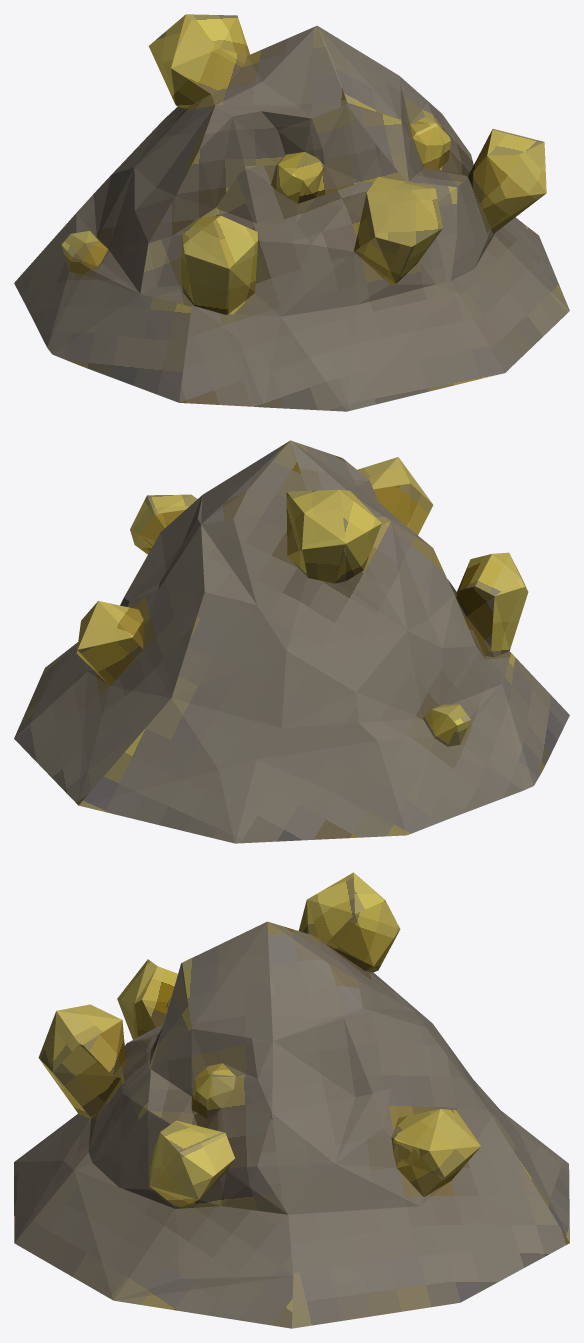
Rendered from gold.glb.
3 views of the same model, one above another, from view 1: azimuth 30°, elevation 25°; view 2: azimuth 150°, elevation 25°; view 3: azimuth 270°, elevation 25° (orthographic). The views are drawn at different scales.
Parts seen in each view (by area): view 1: world; view 2: world; view 3: world.
Part boxes in pixels (left/top/right/bottom): world: left=14, top=14, right=569, bottom=411; world: left=14, top=440, right=569, bottom=843; world: left=14, top=872, right=569, bottom=1328.
Size of the model in its own units: 1 by 0.5463 by 0.9451.
1 material, 1 textured.
